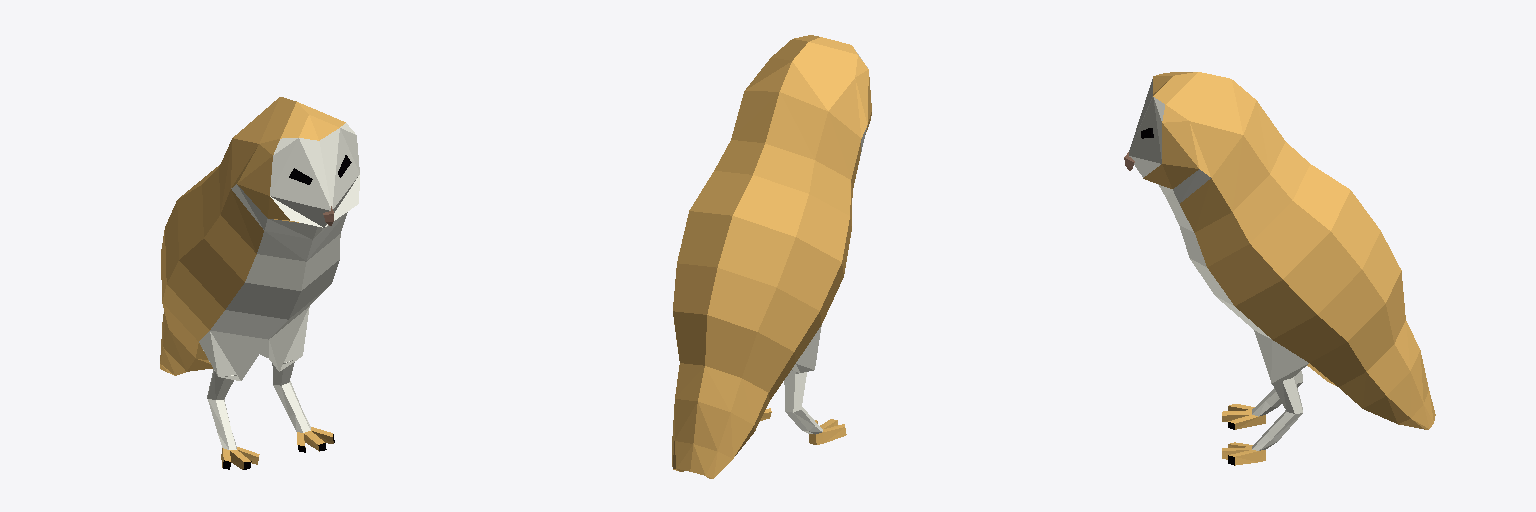
The picture shows the model from 3 angles: view 1: azimuth 30°, elevation 25°; view 2: azimuth 150°, elevation 25°; view 3: azimuth 270°, elevation 25°; orthographic projection.
Visible parts, largest first — view 1: Geo_Owl; view 2: Geo_Owl; view 3: Geo_Owl.
Part boxes in pixels (left/top/right/bottom): Geo_Owl: left=160, top=97, right=359, bottom=469; Geo_Owl: left=672, top=35, right=871, bottom=478; Geo_Owl: left=1124, top=72, right=1435, bottom=465.
Bounding box in the file's own units: 41.84 × 97.62 × 74.74.
Materials: 1 (1 with a texture image).